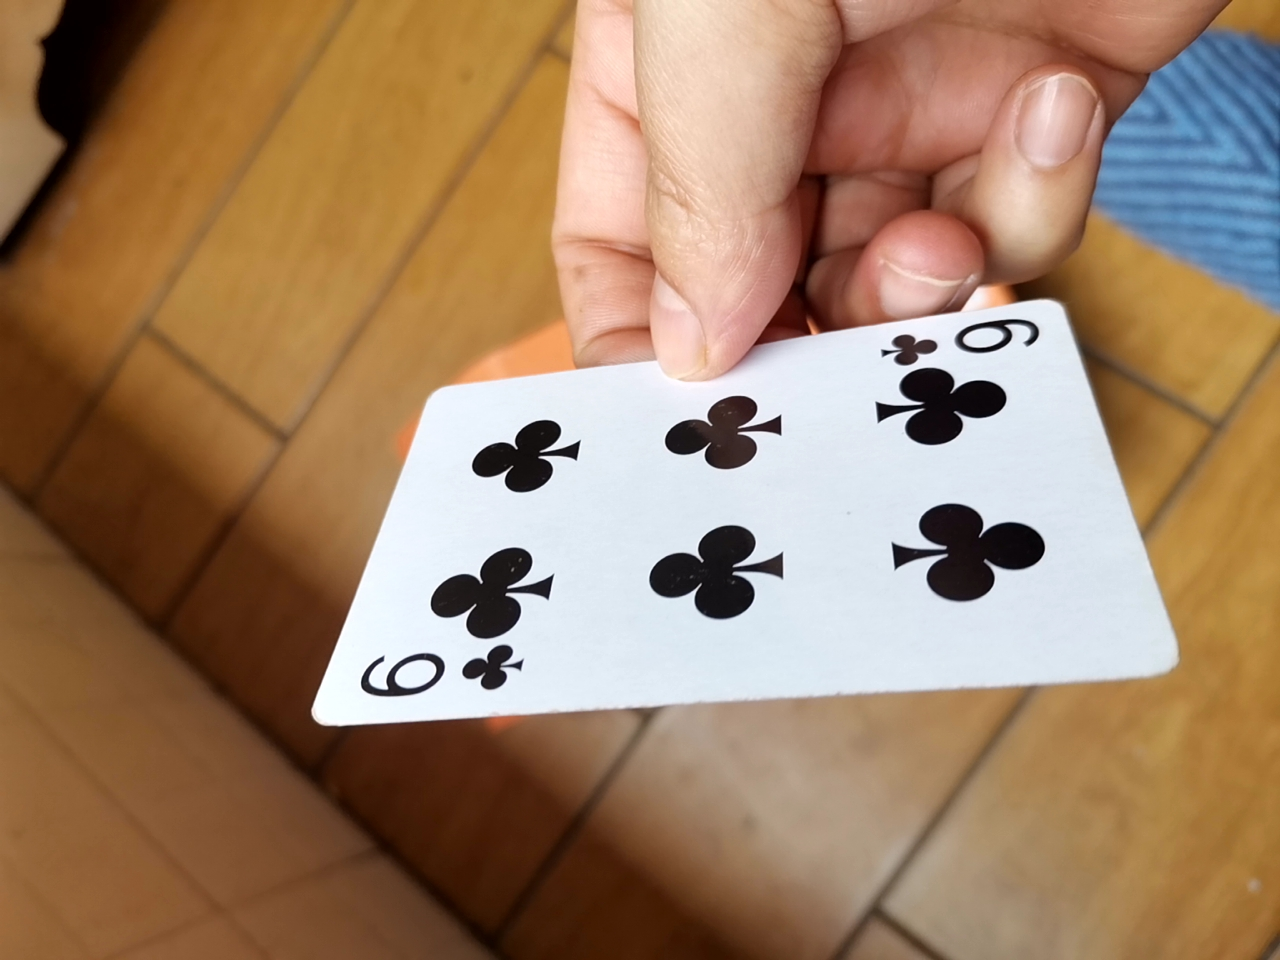mh 6: (315, 294, 1199, 734)
